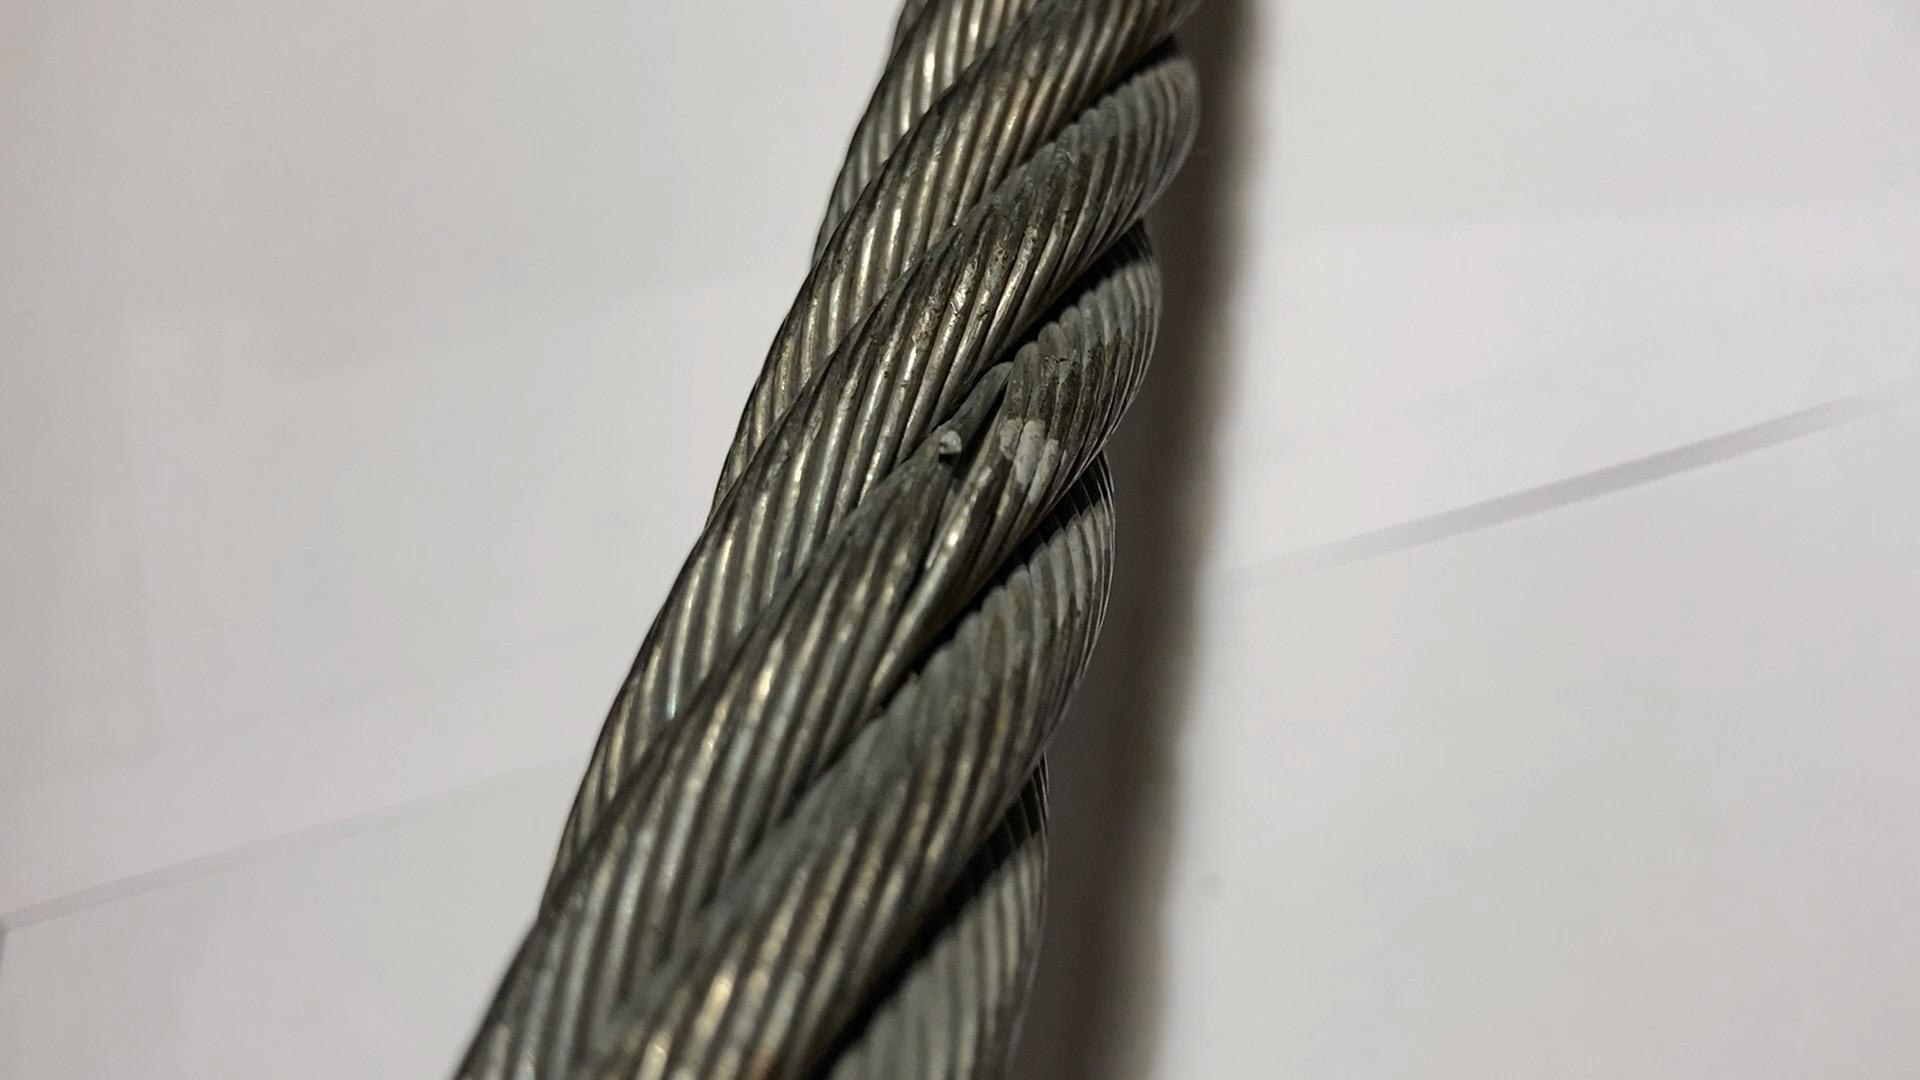break: (920, 400, 1040, 510)
